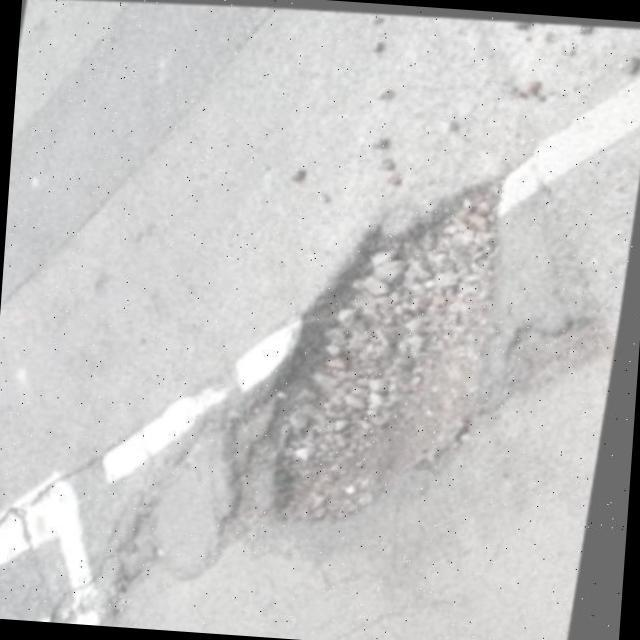Pothole: (236, 178, 498, 519)
